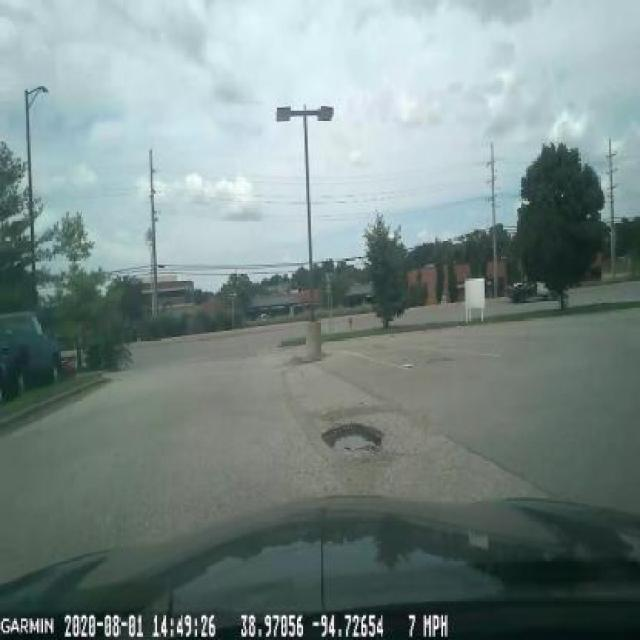Pothole: (316, 413, 392, 475)
